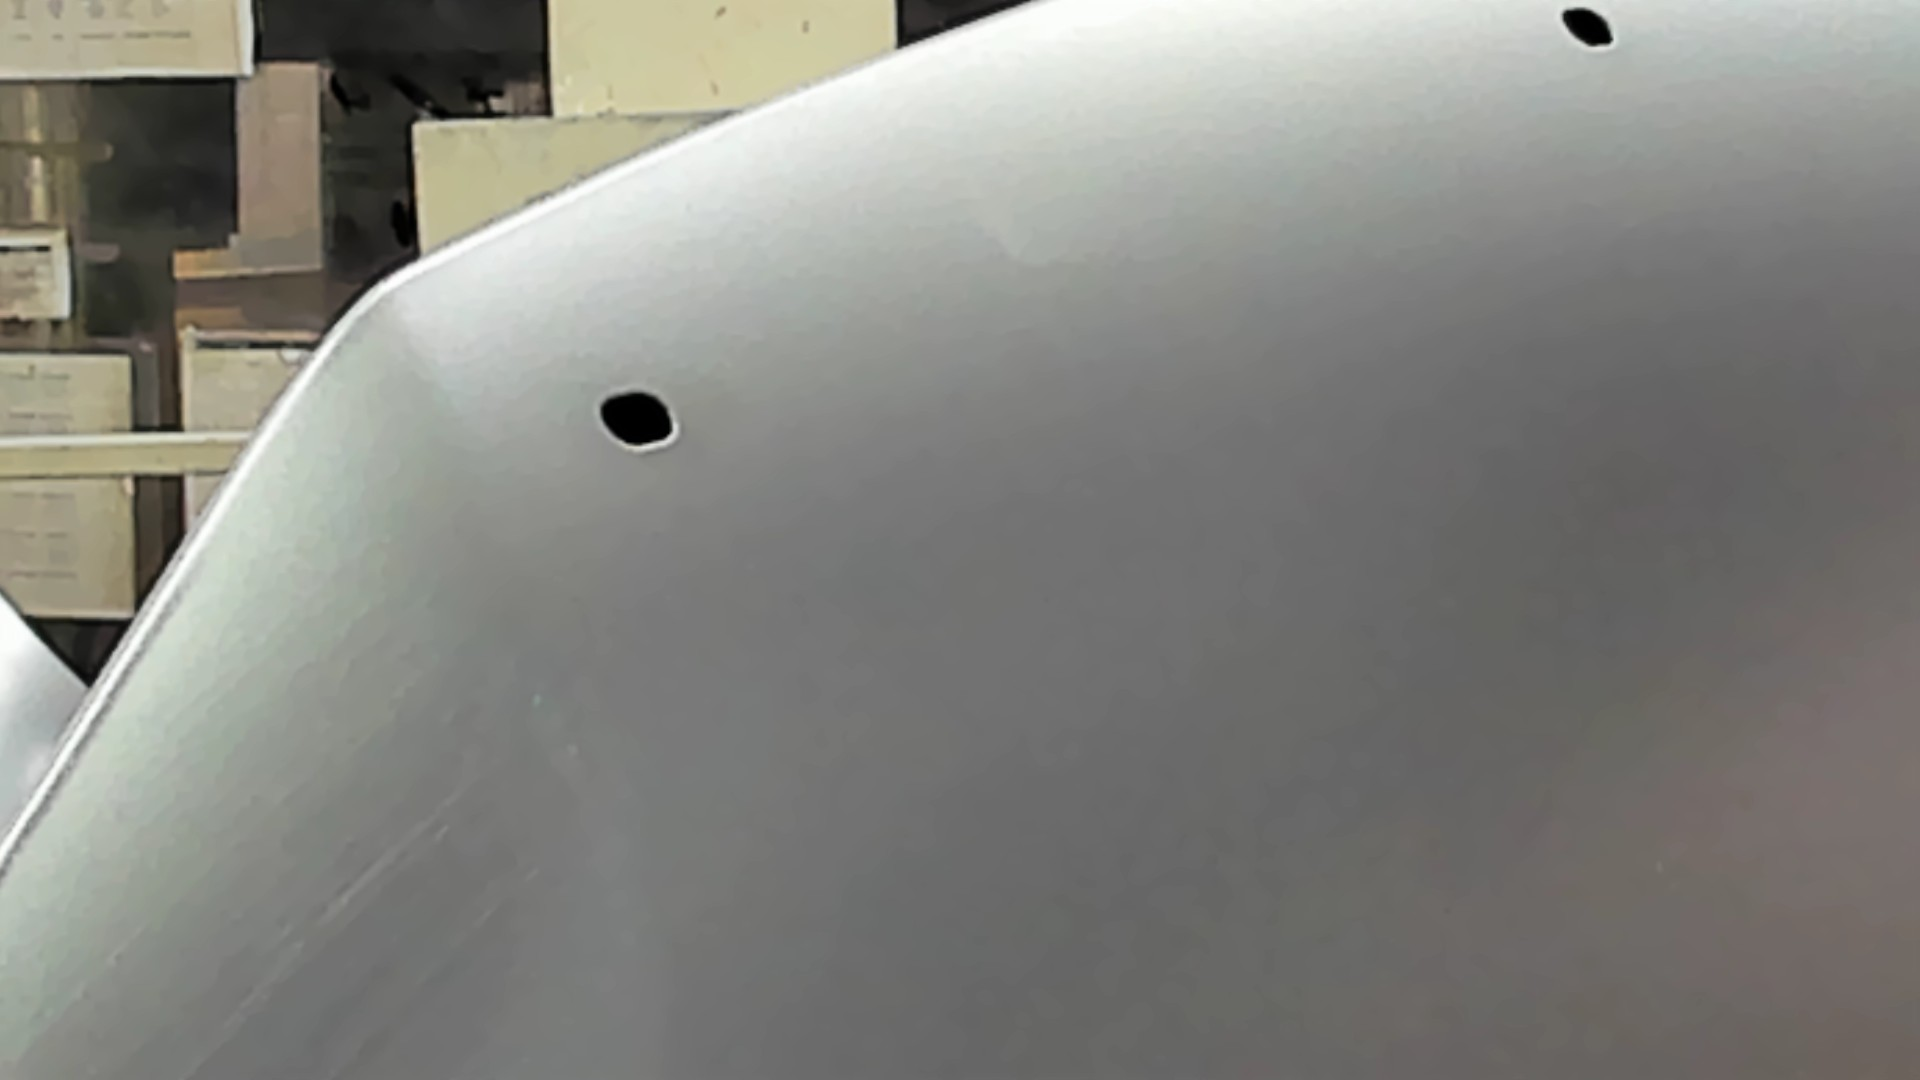amorfo: (593, 385, 680, 454), (1553, 1, 1623, 55)
capo: (814, 105, 1920, 1080)
